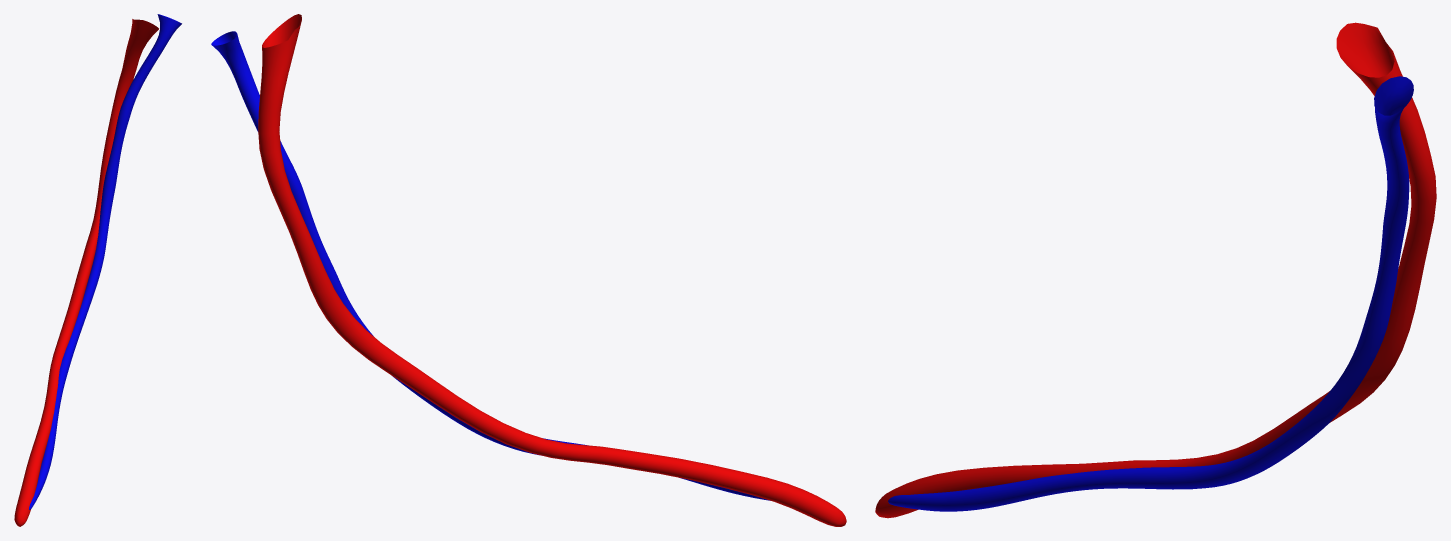
The model's file is VH_F_Blood_Vasculature_Gallbladder.fbx.
3 views of the same model, side by side, from view 1: azimuth 30°, elevation 25°; view 2: azimuth 150°, elevation 25°; view 3: azimuth 270°, elevation 25° (orthographic). The views are drawn at different scales.
Parts seen in each view (by area): view 1: VH_F_cystic_artery, VH_F_cystic_vein; view 2: VH_F_cystic_artery, VH_F_cystic_vein; view 3: VH_F_cystic_vein, VH_F_cystic_artery.
Boxes of the visible parts, x1,y1,x2,y2 form: VH_F_cystic_artery: (14,19,158,526); VH_F_cystic_vein: (29,14,181,509); VH_F_cystic_artery: (258,14,846,526); VH_F_cystic_vein: (211,31,770,500); VH_F_cystic_vein: (888,76,1413,511); VH_F_cystic_artery: (875,22,1436,518).
Size of the model in its own units: 4.88 by 5.82 by 4.08.
